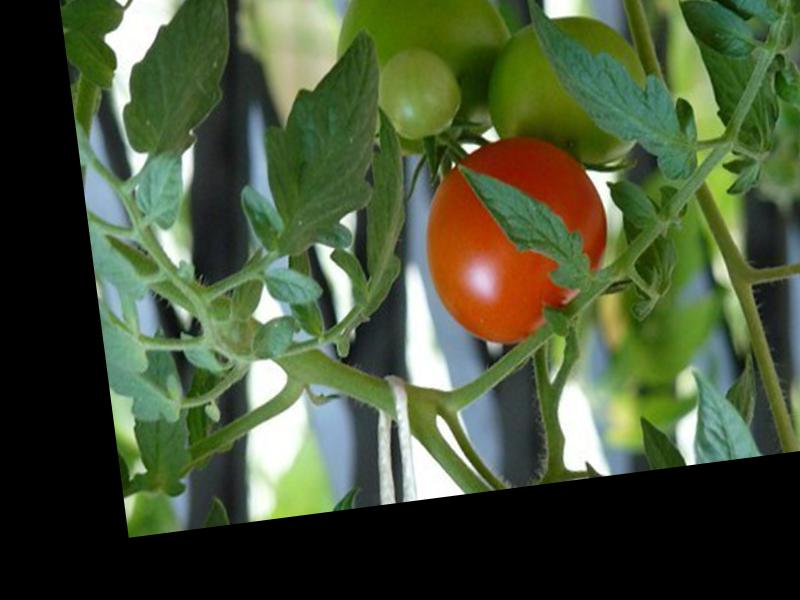Tomato: (413, 130, 620, 353)
